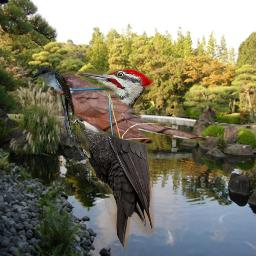Cuckoo: (40, 69, 211, 152), (32, 66, 75, 137)
Woodpecker: (61, 69, 154, 253)
